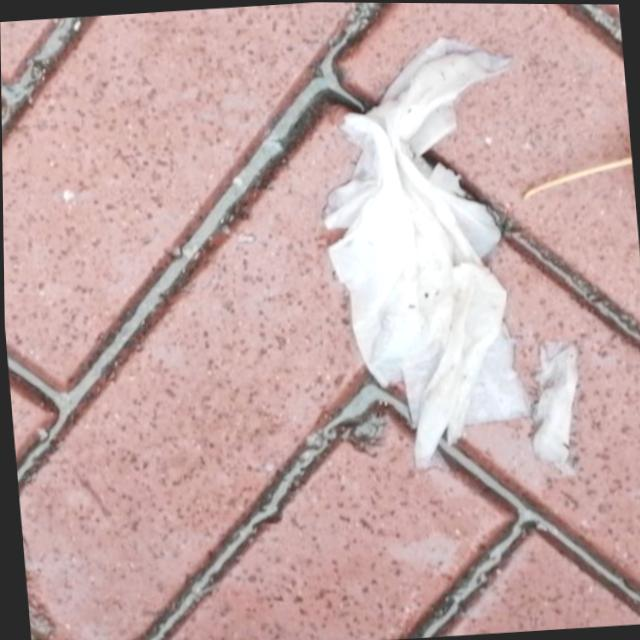Paper: (304, 26, 588, 496)
